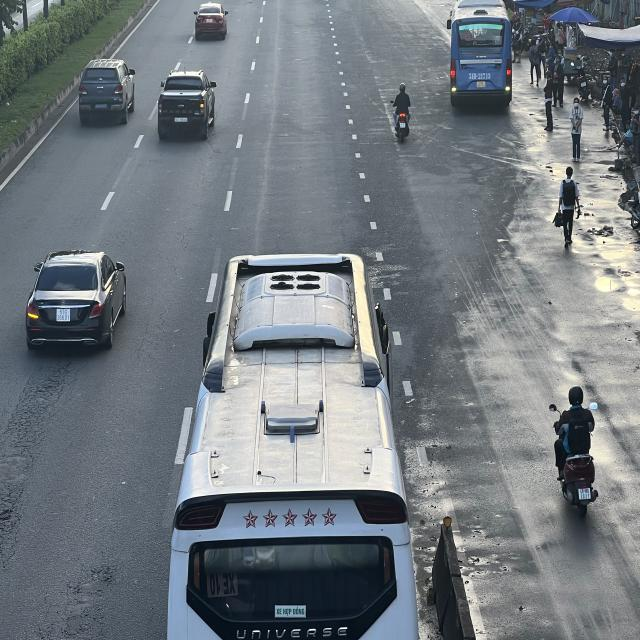car: (26, 251, 129, 350), (158, 70, 219, 139), (80, 58, 138, 121), (194, 3, 228, 41)
coach: (169, 253, 419, 640), (450, 0, 514, 106)
